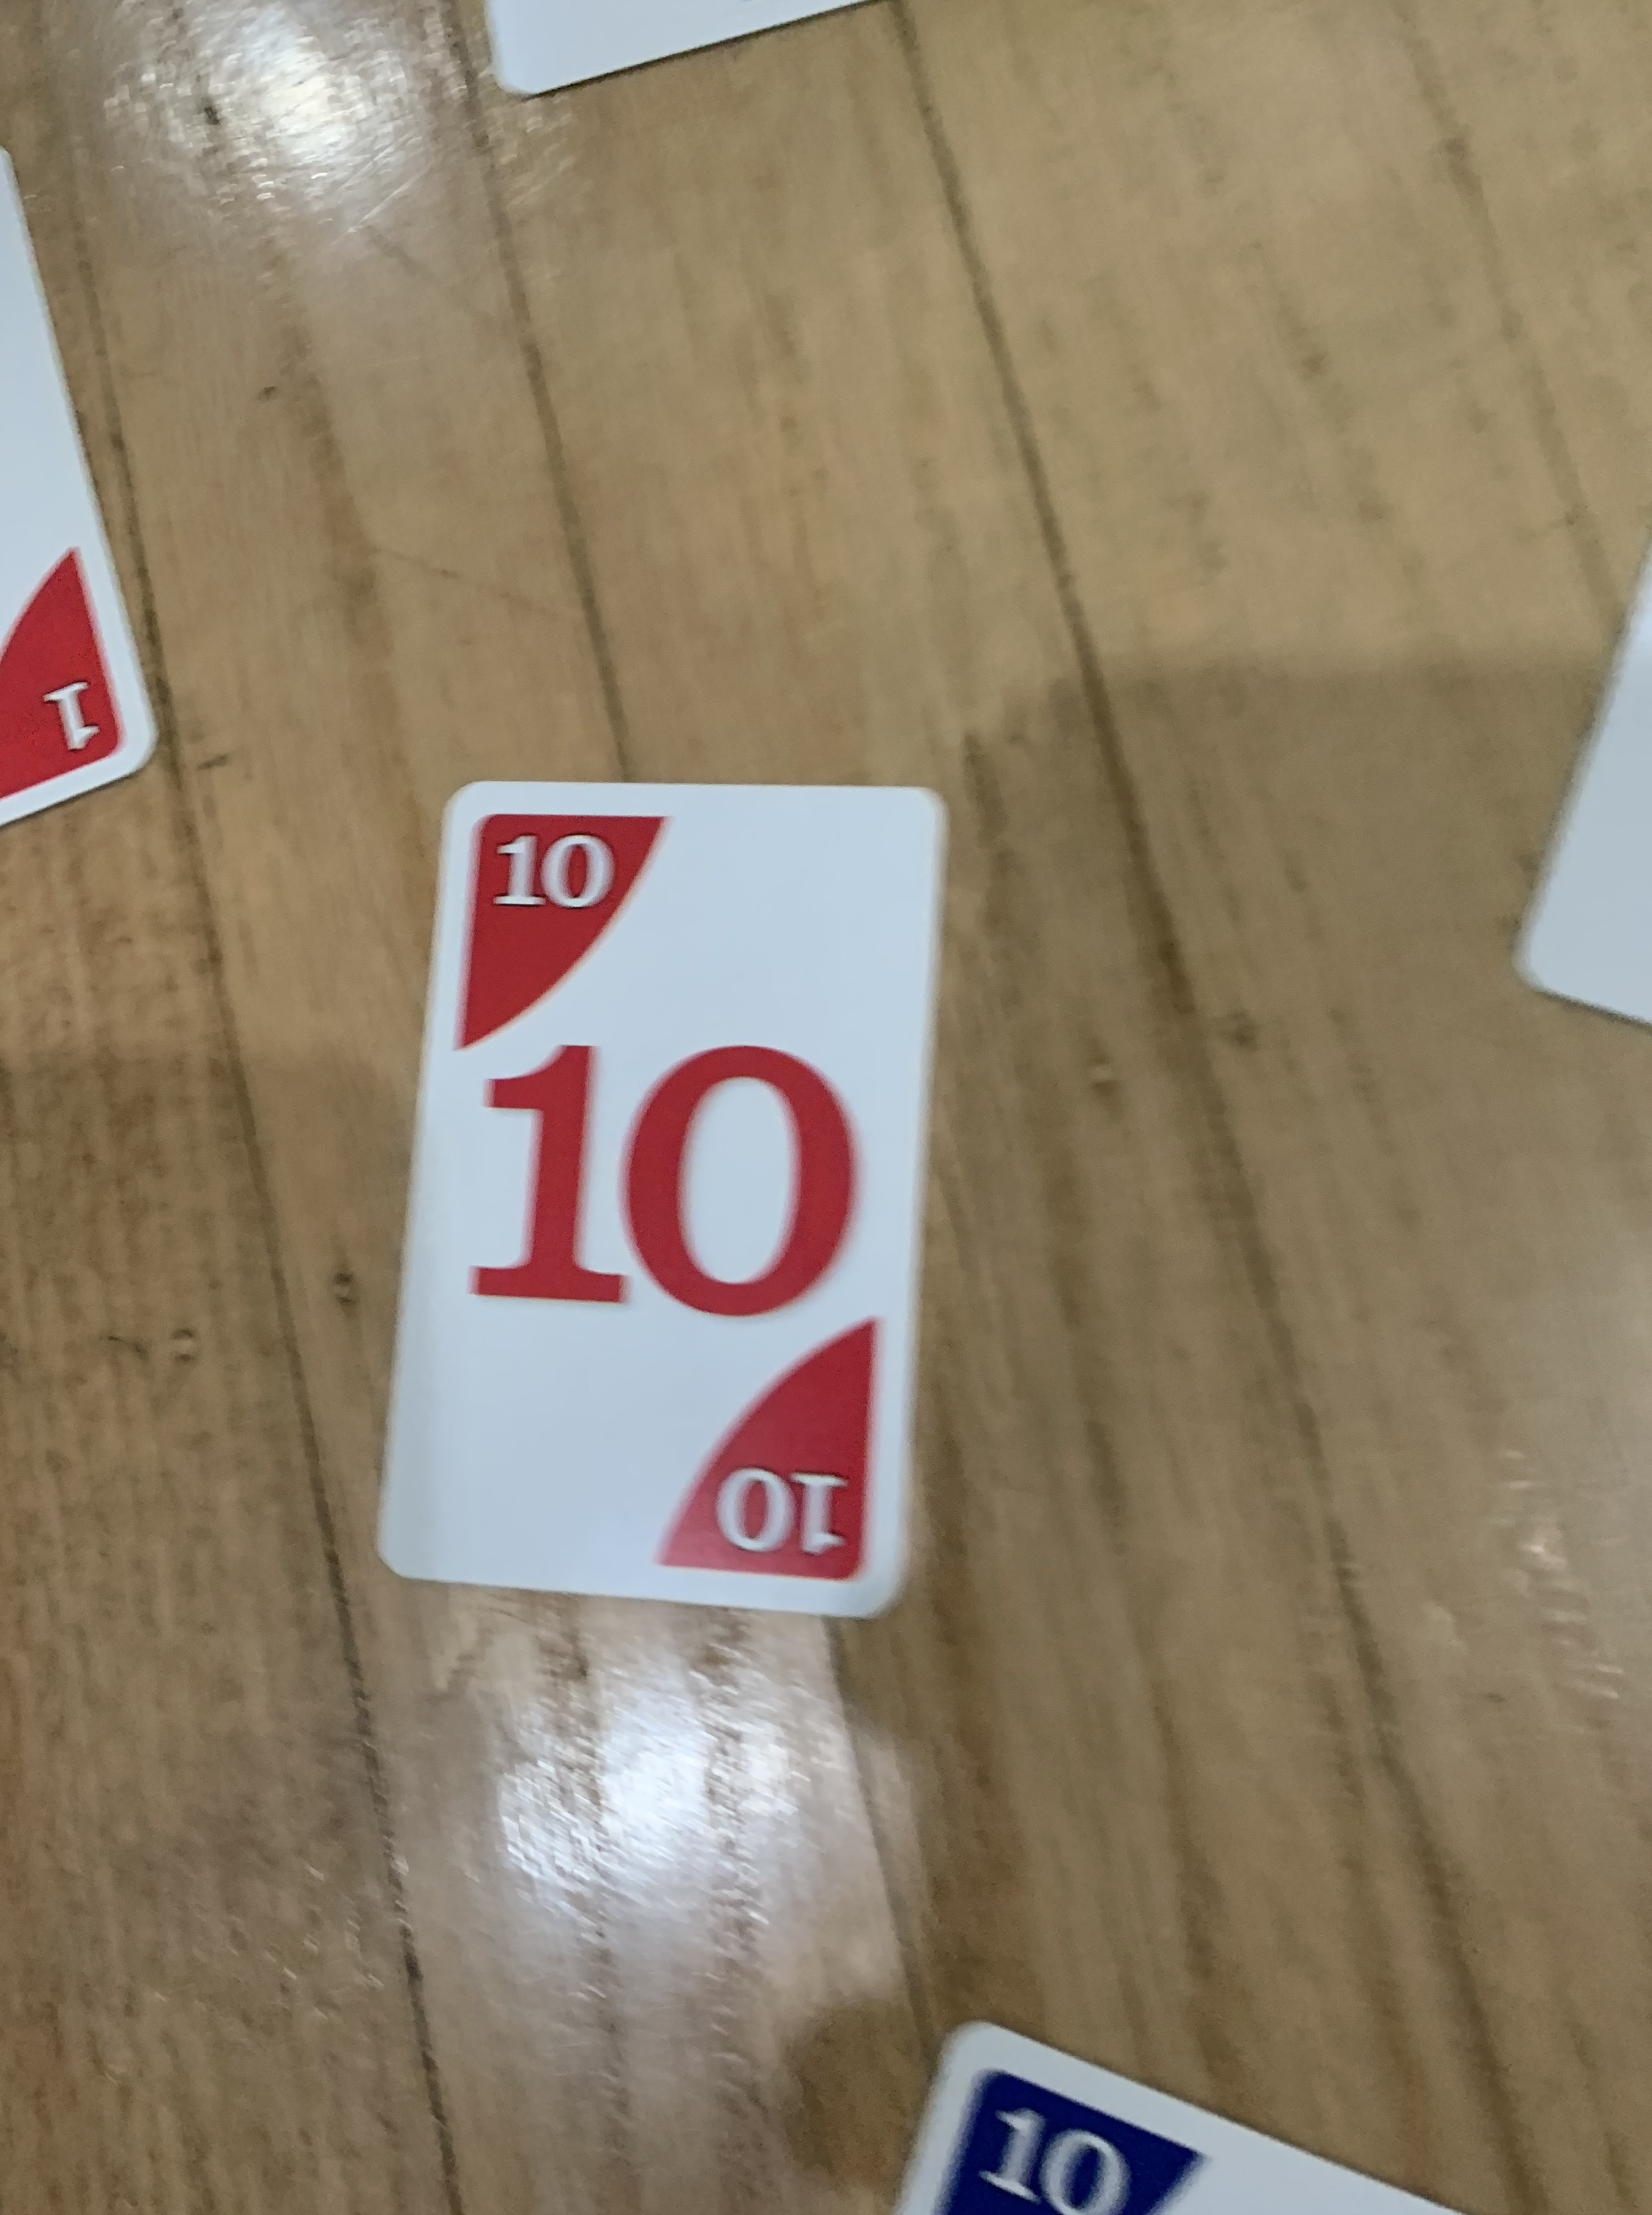ten: (364, 769, 958, 1628)
